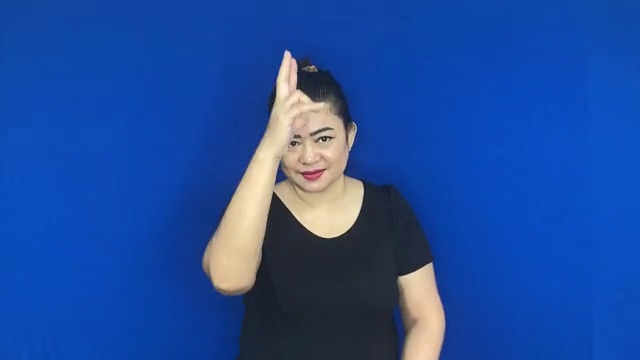chicken: (243, 40, 335, 155)
